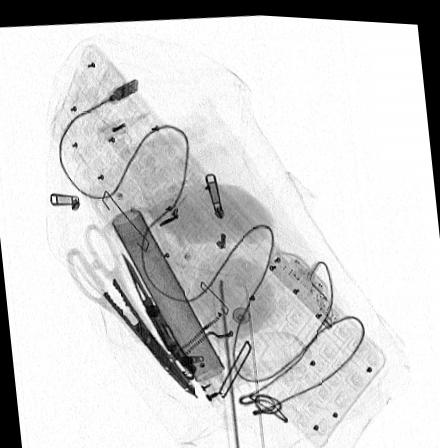Knife: (123, 250, 190, 362)
Scissors: (66, 221, 198, 395)
